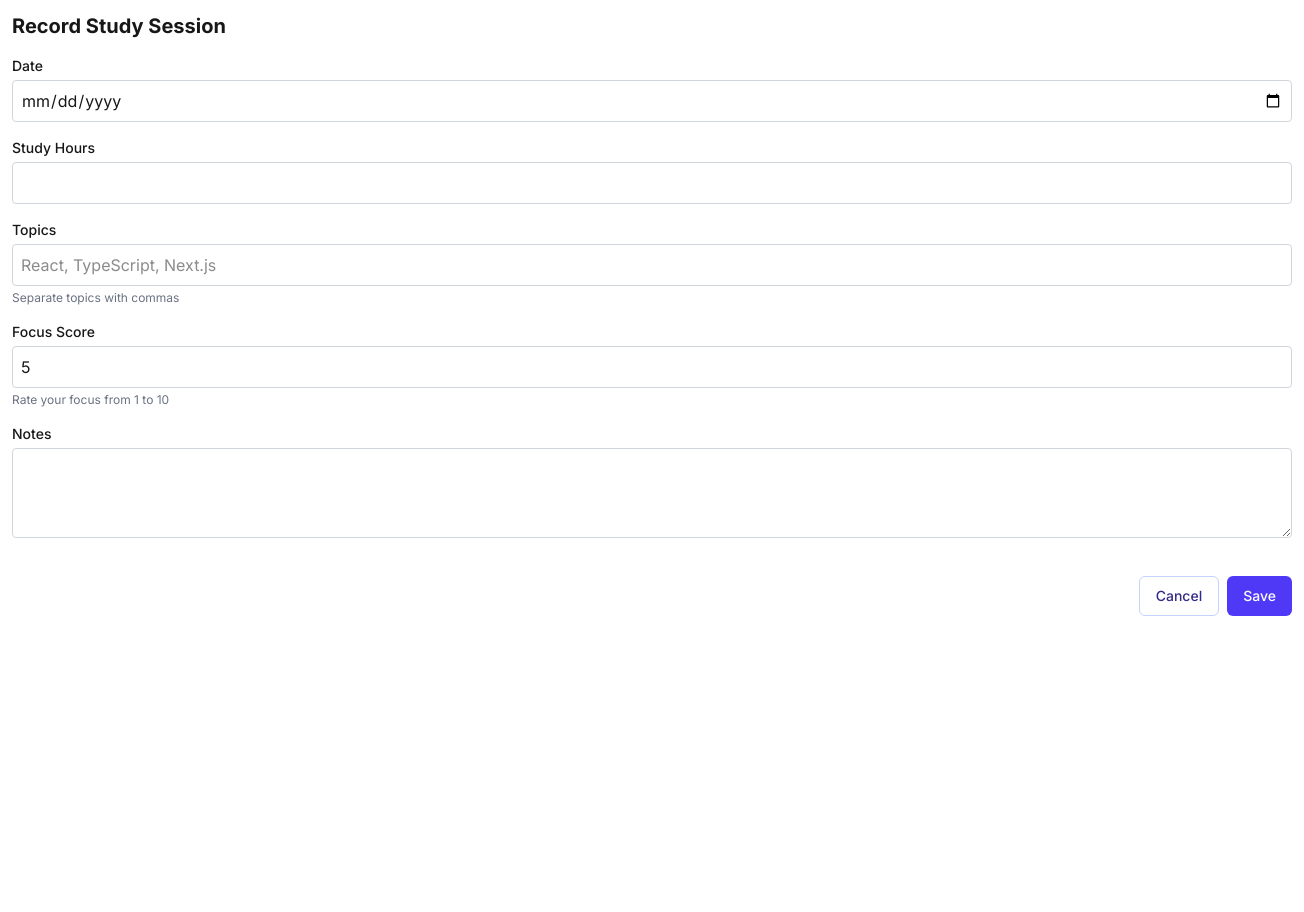
Test case: StudyMetricsForm Component › shows validation errors for required fields
This screenshot has width=1304, height=912.
Note: Clear the focus_score field which is pre-filled with 5
Clear the number field labelled "Focus Score": point(652, 367) x1=12 y1=346 x2=1292 y2=388
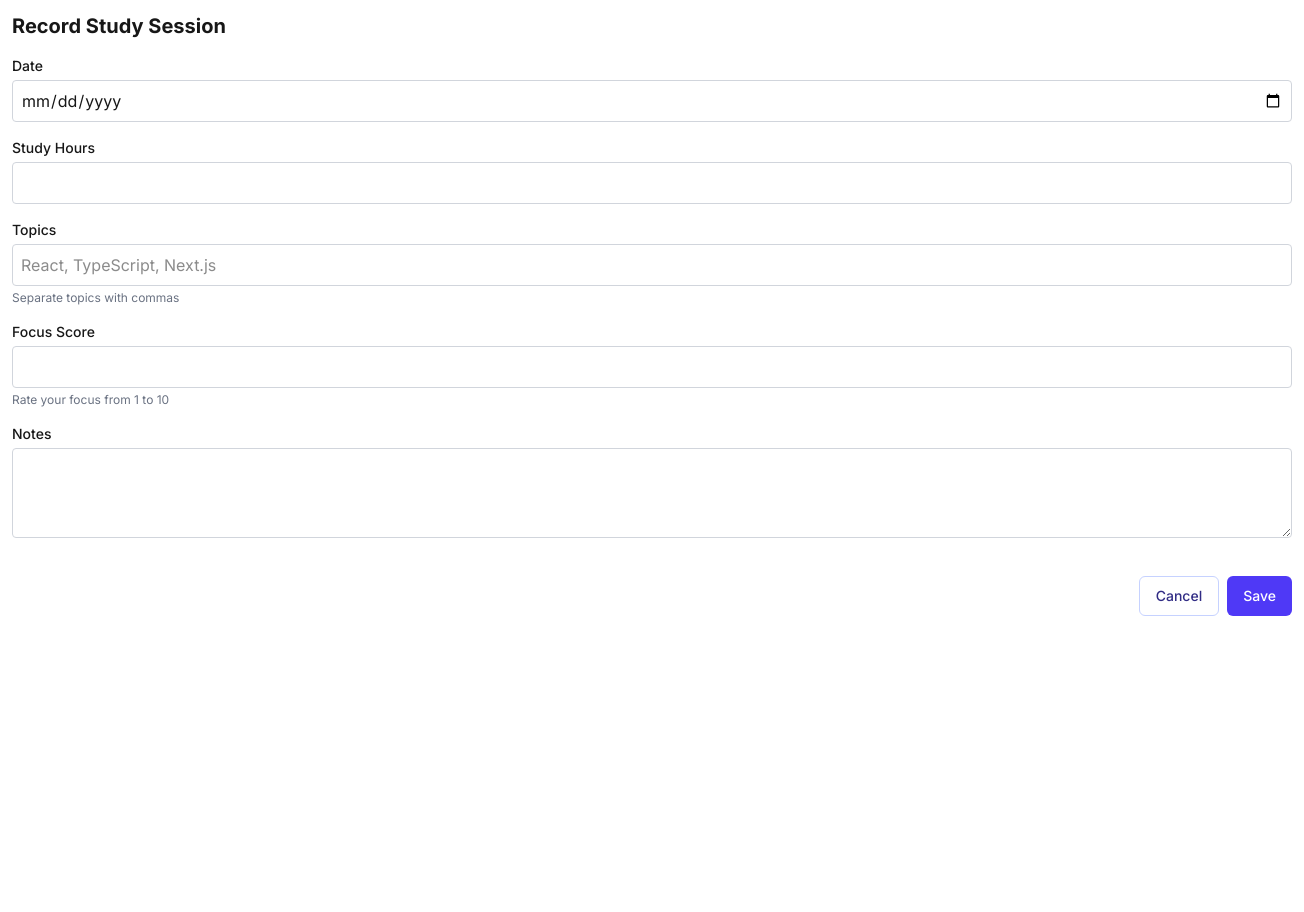
Note: Submit without filling required fields
Click the button "Save": point(1260, 596) x1=1227 y1=576 x2=1292 y2=616
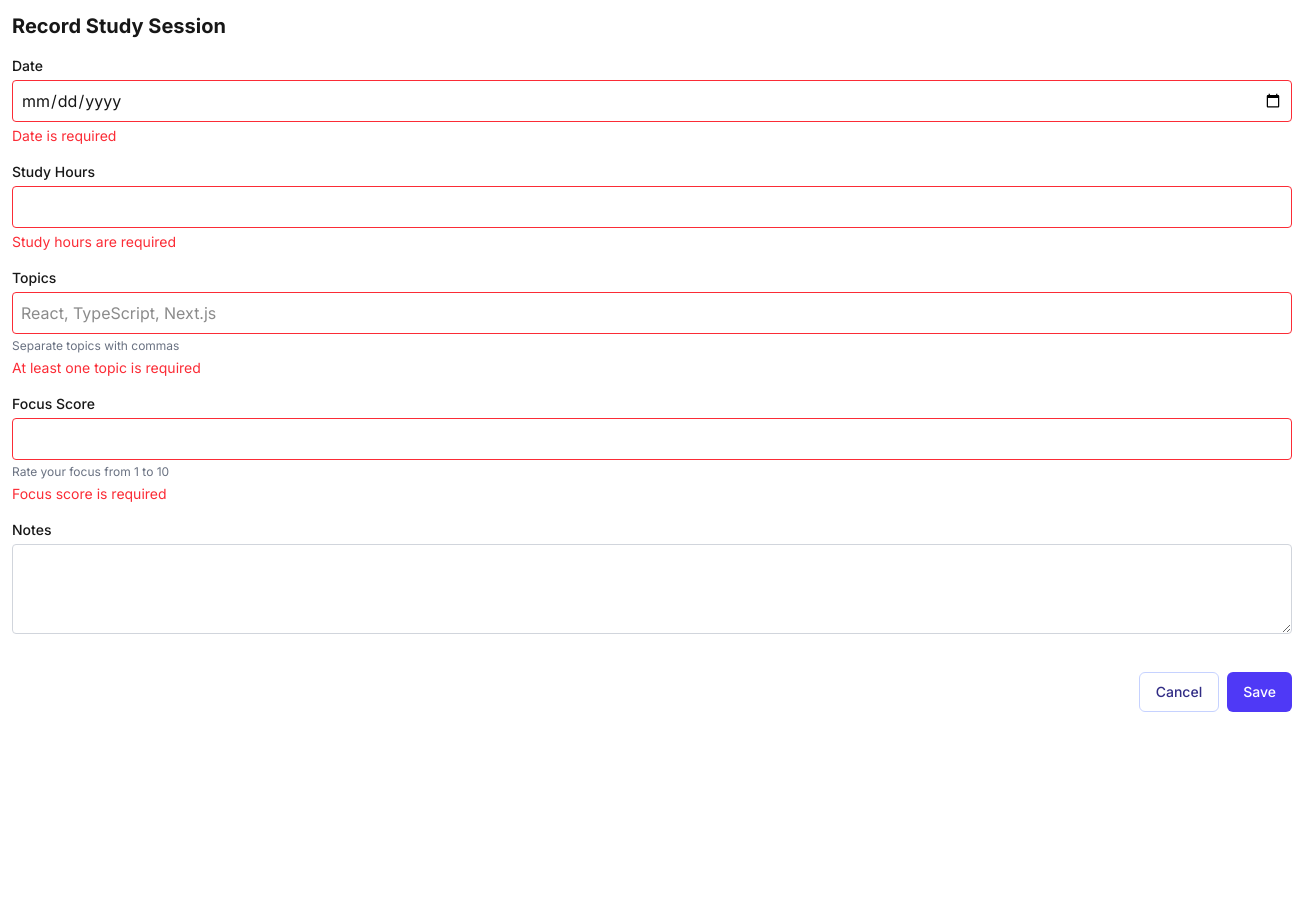
Check: the text "Date is required" is shown, box x1=12 y1=127 x2=116 y2=144
Check: the text "Study hours are required" is shown, box x1=12 y1=233 x2=176 y2=250
Check: the text "At least one topic is required" is shown, box x1=12 y1=359 x2=201 y2=376
